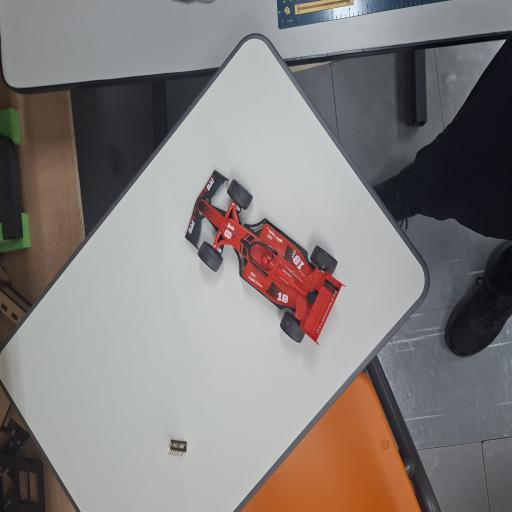carro: (186, 172, 343, 342)
